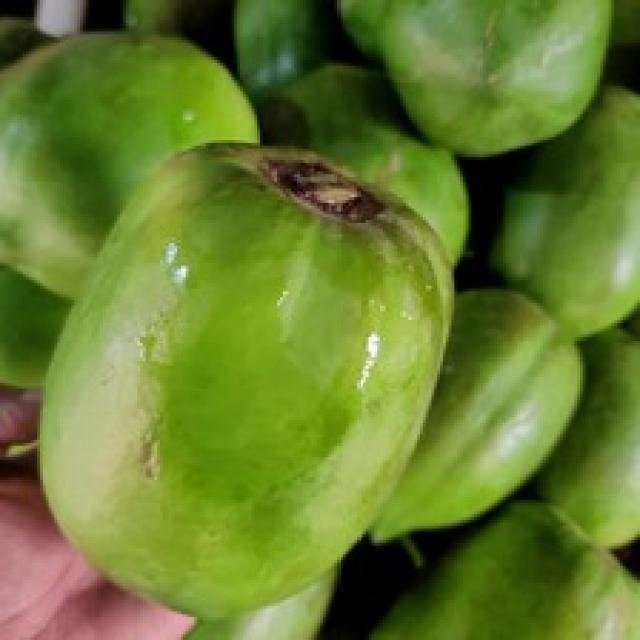Pepaya unrippen: (39, 135, 452, 610)
